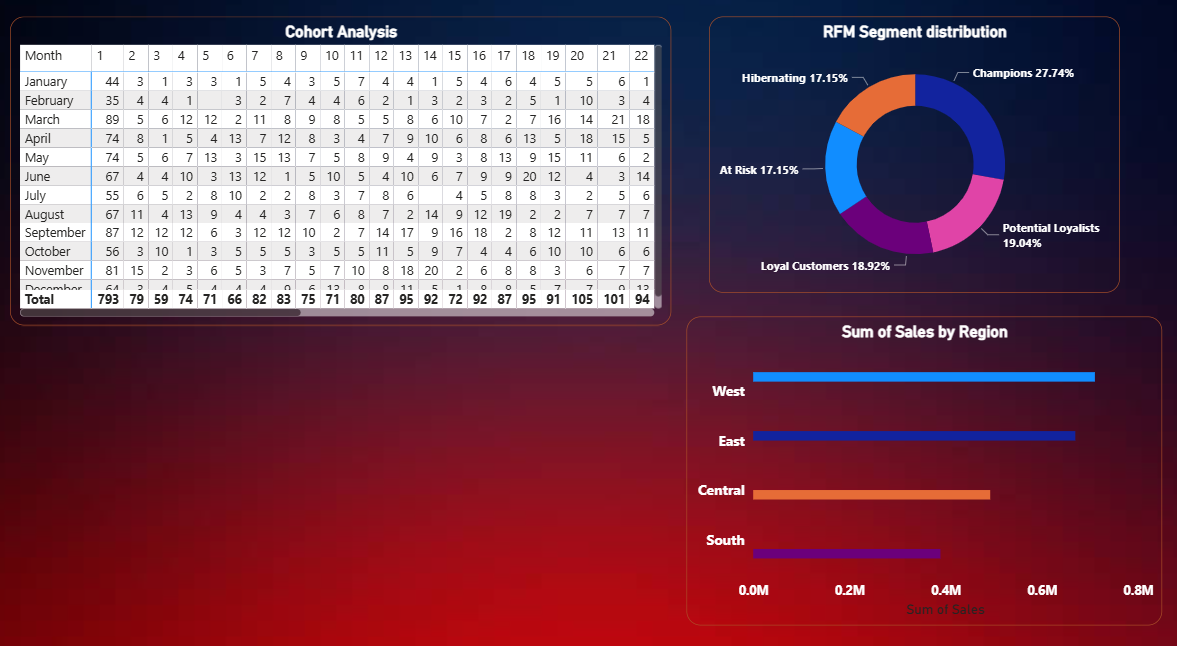

The dashboard page shown, as its layout file describes it:
{"tool":"powerbi","page":{"name":"Page 2","canvas":[1280,720],"ordinal":1},"visuals":[{"type":"pivotTable","title":"Cohort Analysis","fields":{"Rows":["Table1.Cohort Month.Variation.Date Hierarchy.Month"],"Columns":["Table1.Cohort Index"],"Values":["Count(Table1.Customer Name)"]},"box":[22.3,42.9,700.9,327.4],"z":0},{"type":"clusteredBarChart","title":"Sum of Sales by  Region","fields":{"Category":["Table1.Region"],"Y":["Sum(Table1.Sales)"],"Series":["Table1.Region"]},"box":[739.1,360.8,503.8,327.4],"z":1000},{"type":"donutChart","title":"RFM Segment distribution","fields":{"Category":["week2_rfm_output.Segment"],"Y":["Count(week2_rfm_output.Customer Name)"]},"box":[762.9,42.9,435.5,292.5],"z":2000}]}

Visuals, with their boxes in screenshot pixels (x1, y1, x2, y2), scaled from the page's 1280x720 canvas onto the 1177x646 screenshot:
"Cohort Analysis" pivotTable: 21 38 665 332
"Sum of Sales by  Region" clusteredBarChart: 680 324 1143 617
"RFM Segment distribution" donutChart: 702 38 1102 301
